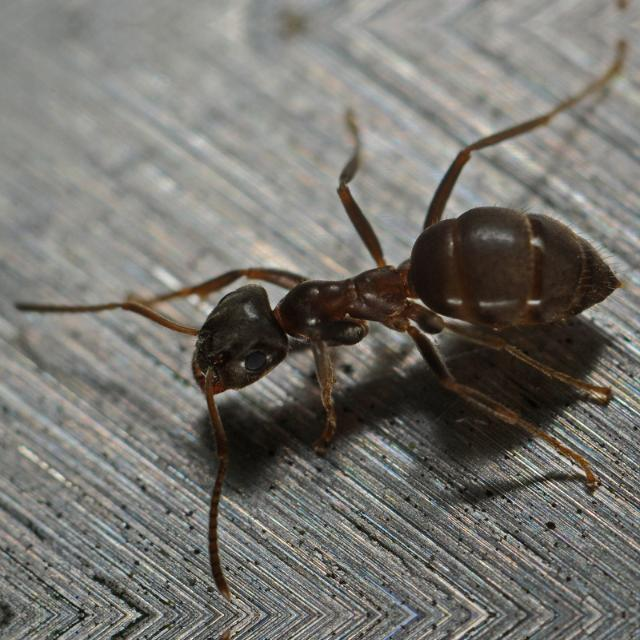Lasius: (102, 124, 640, 483)
